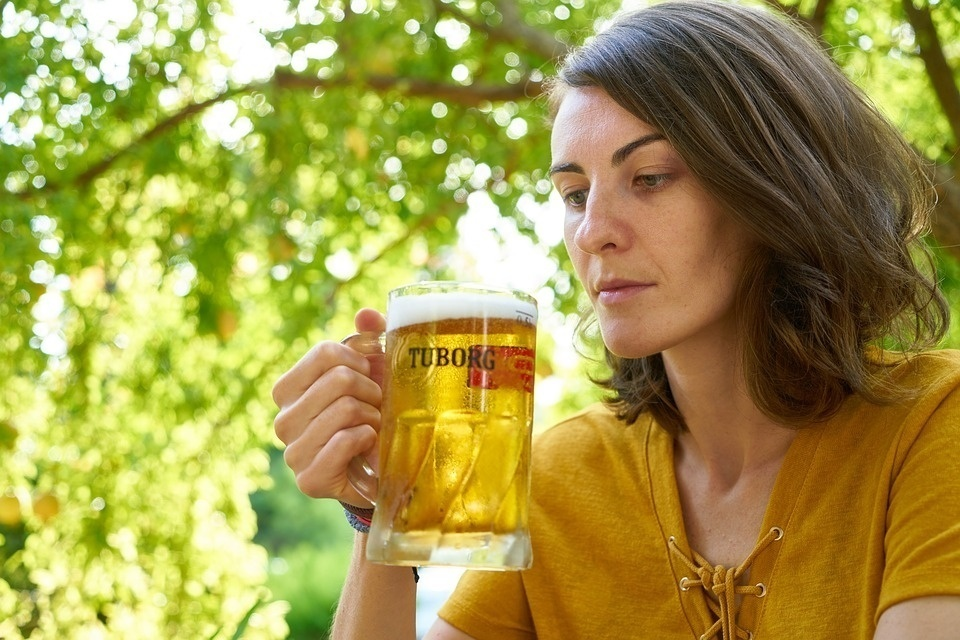whiskey: (356, 288, 537, 559)
